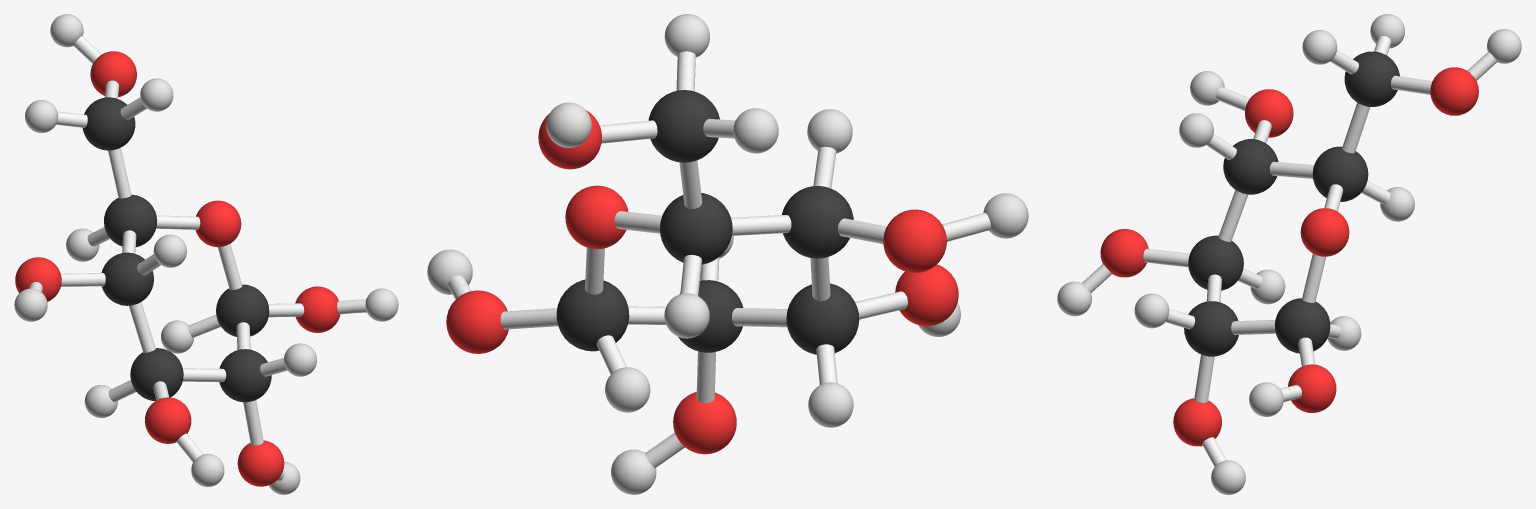
The model's file is putaotang_R.fbx.
The picture shows the model from 3 angles, left to right: view 1: azimuth 30°, elevation 25°; view 2: azimuth 150°, elevation 25°; view 3: azimuth 270°, elevation 25°; orthographic projection. The views are drawn at different scales.
Visible parts, largest first — view 1: 对象110, 对象114, 对象112, 对象144, 对象111, 对象113, 对象108, 对象107, 对象106, 对象147, 对象105, 对象109 (+22 smaller); view 2: 对象112, 对象111, 对象110, 对象144, 对象113, 对象109, 对象147, 对象107, 对象106, 对象108, 对象114, 对象105 (+28 smaller); view 3: 对象112, 对象114, 对象110, 对象144, 对象113, 对象111, 对象106, 对象105, 对象108, 对象107, 对象147, 对象109 (+20 smaller).
Boxes of the visible parts, bbox=[...] form: 对象110: bbox=[82, 97, 135, 150]; 对象114: bbox=[219, 349, 271, 402]; 对象112: bbox=[101, 252, 153, 305]; 对象144: bbox=[216, 284, 269, 336]; 对象111: bbox=[104, 194, 157, 247]; 对象113: bbox=[130, 348, 183, 400]; 对象108: bbox=[144, 397, 191, 443]; 对象107: bbox=[237, 440, 284, 486]; 对象106: bbox=[195, 200, 241, 247]; 对象147: bbox=[295, 286, 340, 332]; 对象105: bbox=[90, 51, 136, 97]; 对象109: bbox=[15, 257, 61, 301]; 对象112: bbox=[782, 186, 853, 258]; 对象111: bbox=[660, 193, 732, 264]; 对象110: bbox=[648, 90, 719, 162]; 对象144: bbox=[556, 279, 629, 351]; 对象113: bbox=[786, 283, 859, 354]; 对象109: bbox=[883, 209, 946, 272]; 对象147: bbox=[446, 290, 508, 353]; 对象107: bbox=[673, 392, 736, 454]; 对象106: bbox=[565, 185, 628, 249]; 对象108: bbox=[895, 264, 958, 326]; 对象114: bbox=[678, 280, 743, 352]; 对象105: bbox=[538, 110, 601, 169]; 对象112: bbox=[1223, 139, 1278, 194]; 对象114: bbox=[1184, 301, 1238, 356]; 对象110: bbox=[1344, 51, 1399, 106]; 对象144: bbox=[1274, 298, 1330, 353]; 对象113: bbox=[1188, 235, 1243, 290]; 对象111: bbox=[1312, 146, 1368, 201]; 对象106: bbox=[1300, 208, 1349, 256]; 对象105: bbox=[1430, 67, 1478, 115]; 对象108: bbox=[1100, 229, 1148, 277]; 对象107: bbox=[1173, 398, 1221, 446]; 对象147: bbox=[1288, 364, 1336, 412]; 对象109: bbox=[1245, 89, 1293, 137].
Size of the model in its own units: 99.71 by 93.86 by 94.16.
1 material, 1 textured.
